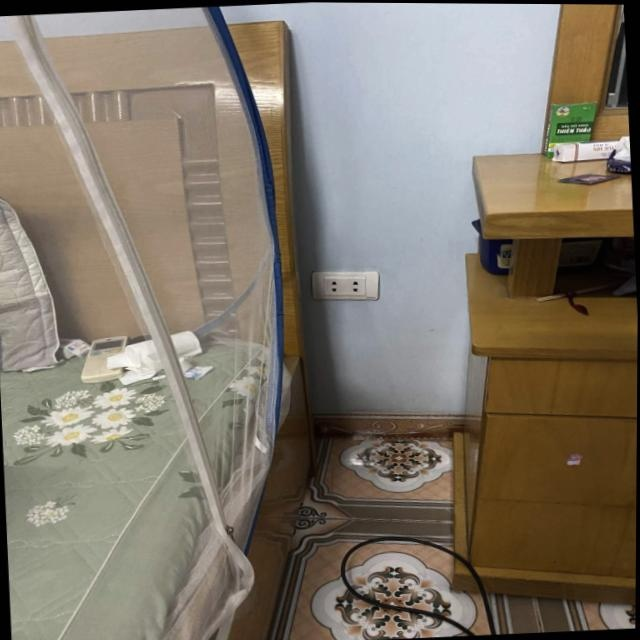outlet: (310, 268, 381, 303)
